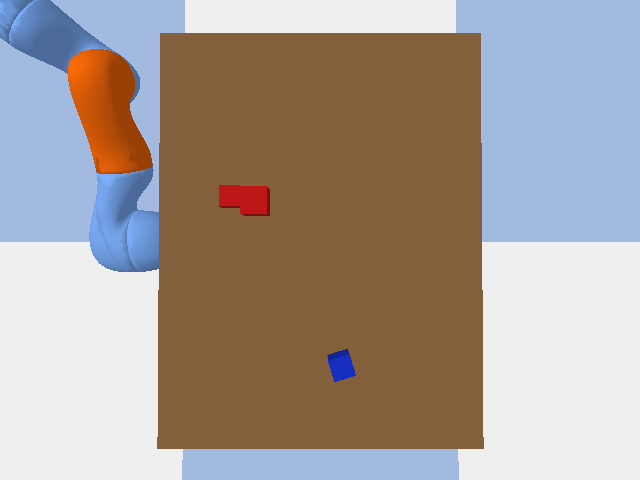blue_obj: (327, 349, 355, 381)
red_obj: (240, 186, 269, 215), (219, 185, 239, 207)
